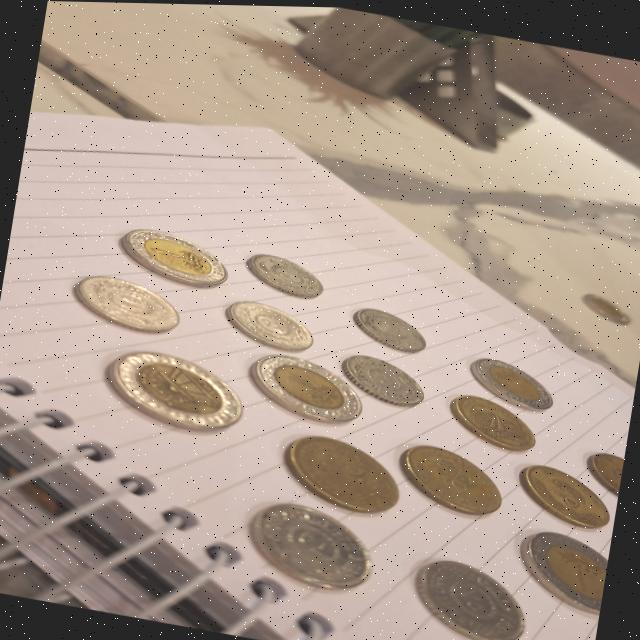Half Pound: (270, 421, 406, 519), (388, 432, 513, 520), (510, 455, 618, 532), (578, 440, 626, 502)
One Pound: (98, 339, 248, 445), (243, 342, 371, 430), (109, 216, 238, 295), (511, 517, 612, 617), (428, 384, 548, 458), (461, 346, 568, 416)
quarter pound: (239, 484, 384, 600), (398, 545, 542, 640), (50, 257, 188, 335), (205, 287, 331, 357), (339, 297, 435, 359), (242, 244, 332, 304)
